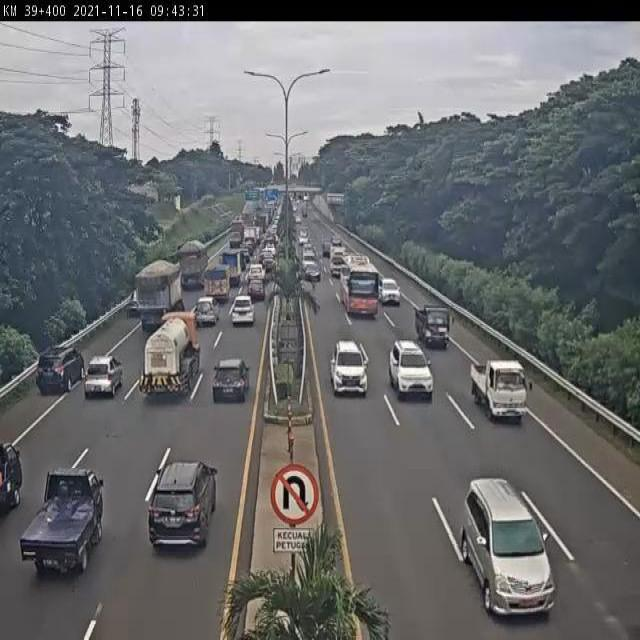big bus: (337, 252, 380, 316)
car: (461, 476, 554, 620), (18, 467, 108, 584), (147, 458, 219, 554), (469, 357, 533, 424), (32, 347, 87, 405), (391, 340, 435, 400), (210, 356, 253, 408), (331, 339, 368, 396), (415, 301, 455, 352), (84, 353, 124, 400), (190, 298, 220, 334), (231, 296, 256, 332), (376, 276, 403, 305), (246, 276, 268, 305)
small truck: (200, 263, 229, 308)
truck-m-: (137, 309, 203, 407), (130, 262, 180, 338), (173, 241, 208, 295)
